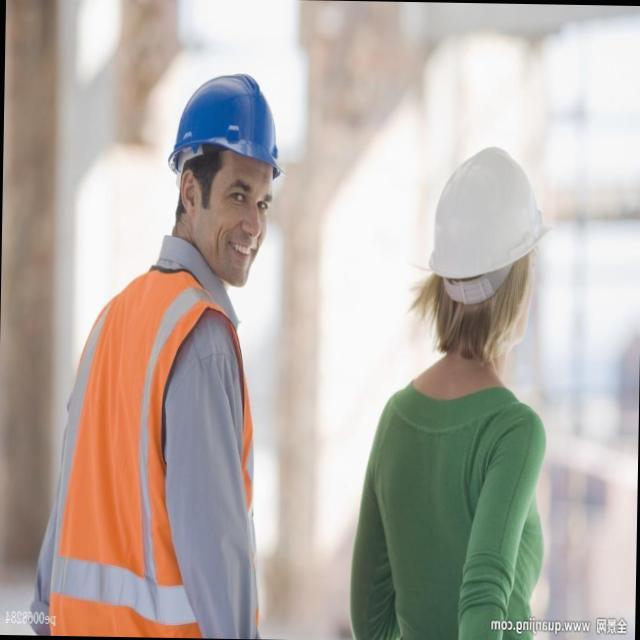helmet: (422, 139, 560, 306), (154, 68, 299, 188)
no-vest: (351, 351, 552, 640)
vest: (49, 276, 232, 638)
